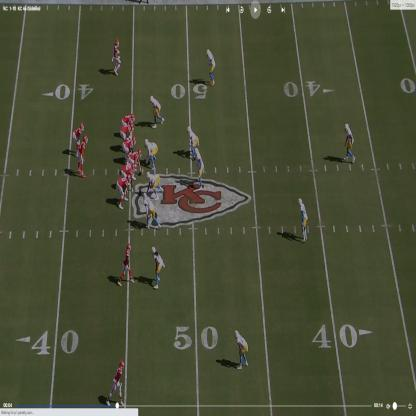CENTER: (132, 149, 144, 171)
DB: (153, 245, 165, 286), (236, 329, 248, 368), (344, 121, 353, 161), (301, 196, 309, 241), (209, 49, 216, 86)
LB: (192, 147, 206, 186), (151, 94, 163, 125), (189, 125, 198, 156)
QB: (77, 135, 88, 174)
SKILL: (111, 360, 126, 402), (120, 245, 130, 284), (75, 121, 85, 147), (121, 112, 137, 126), (115, 38, 121, 75)
